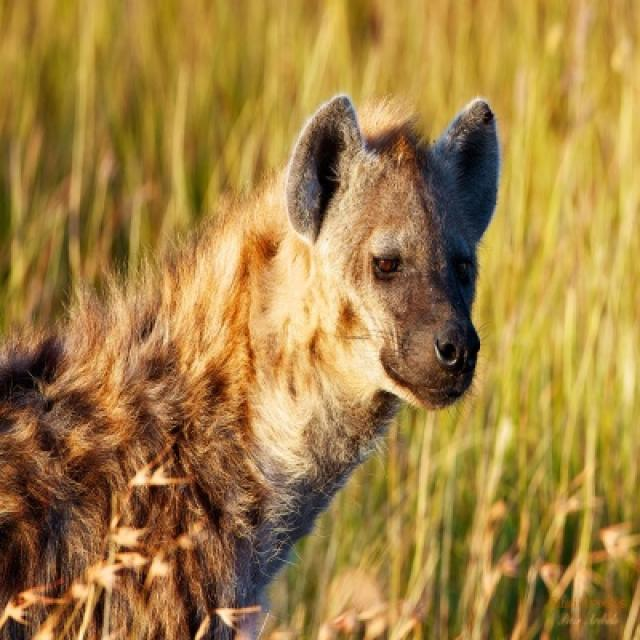hyena: (0, 94, 502, 638)
